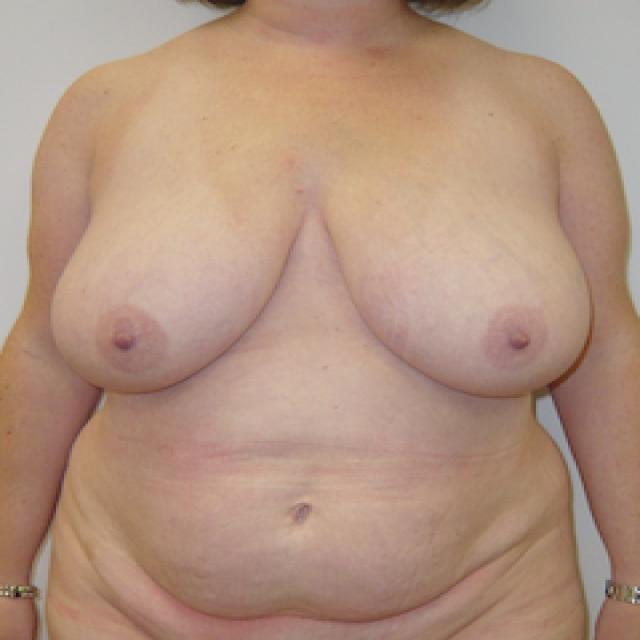Seno ileso: (314, 160, 599, 413), (45, 160, 311, 409)
